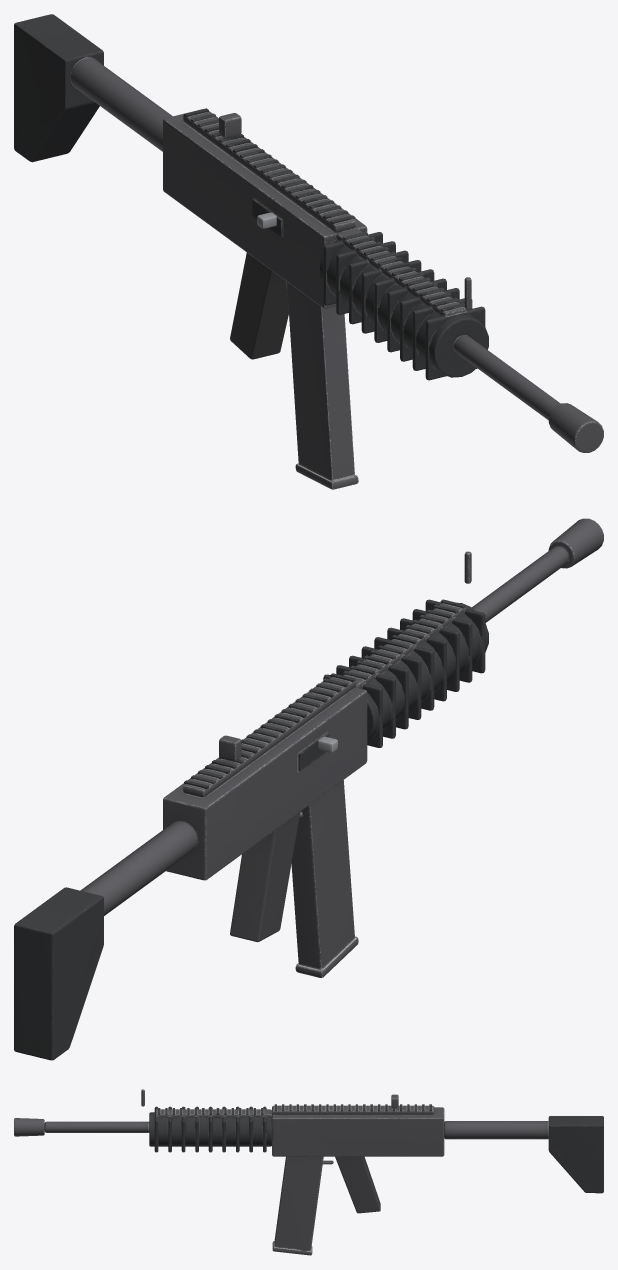
3 views of the same model, one above another, from view 1: azimuth 30°, elevation 25°; view 2: azimuth 150°, elevation 25°; view 3: azimuth 270°, elevation 25° (orthographic). The views are drawn at different scales.
Visible parts, largest first — view 1: m4a4; view 2: m4a4; view 3: m4a4.
Part boxes in pixels (x1,y1,x2,y2): m4a4: [14, 14, 603, 489]; m4a4: [14, 518, 603, 1060]; m4a4: [14, 1089, 603, 1255].
Bounding box in the file's own units: 0.0671 × 0.2924 × 0.96.
